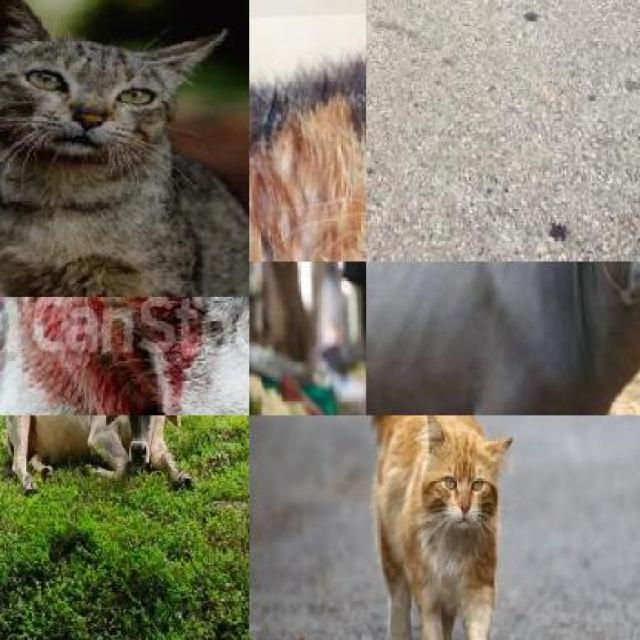buffalo: (366, 262, 640, 416)
cat: (0, 0, 249, 297), (352, 415, 506, 640), (249, 3, 366, 262)
cow: (1, 416, 192, 496)
dog: (0, 297, 249, 415)
injured: (82, 297, 226, 415)
